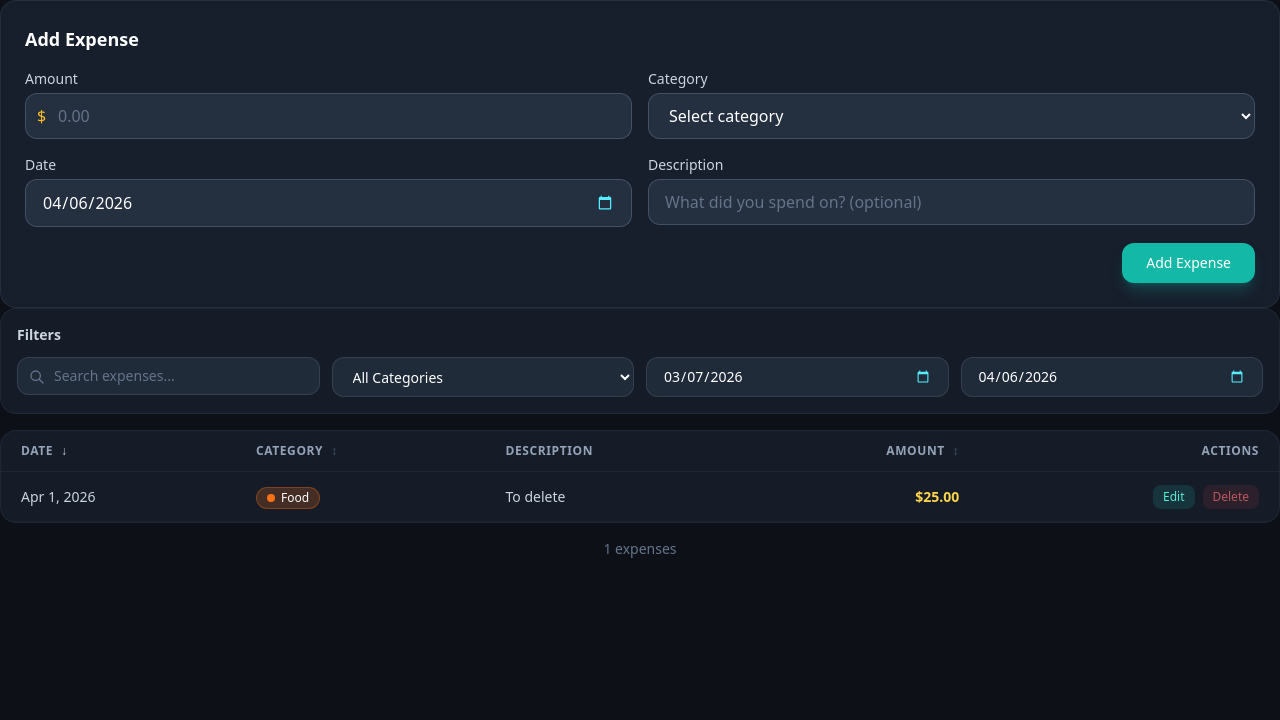
Test case: Expenses view › deleting expenses › shows confirmation buttons when delete is clicked
This screenshot has width=1280, height=720.
// Click delete in table
Click the button "Delete".
click(1231, 496)  # box [1202,484,1259,508]
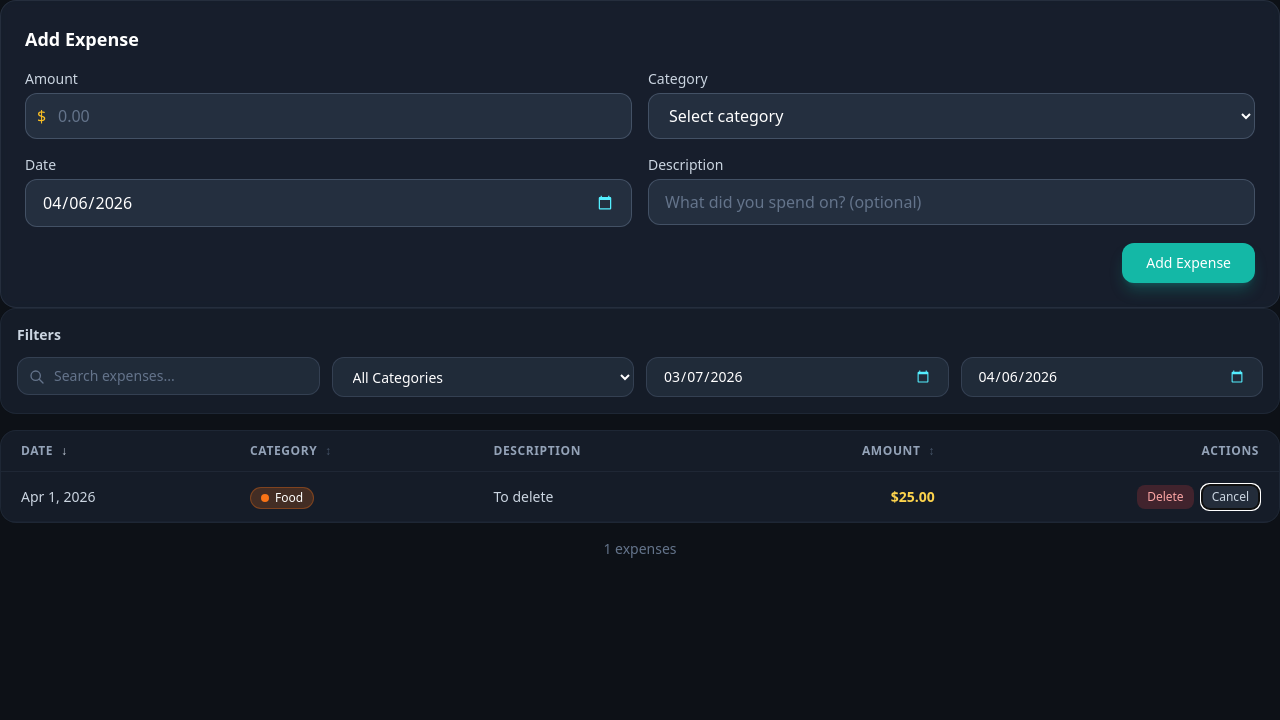
Check: the button "Delete" is shown, box [1137,484,1194,508]
Check: the button "Cancel" is shown, box [1202,484,1259,508]
